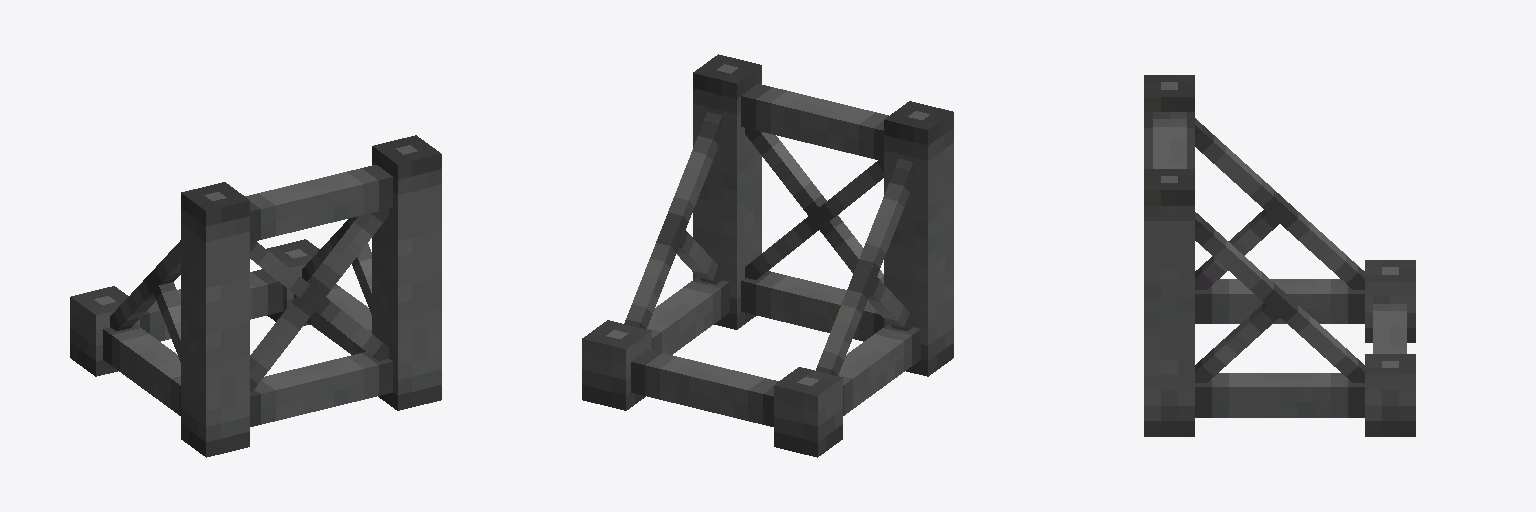
3 renders of one model, left to right at view 1: azimuth 30°, elevation 25°; view 2: azimuth 150°, elevation 25°; view 3: azimuth 270°, elevation 25°, orthographic.
Parts seen in each view (by area): view 1: Component_1_005, Component_1_006, Component_2_013, Component_2_009, Component_3_010, Component_2_011, Component_5_002, Component_3_009, Component_2_012, Component_3_012, Component_2_010, Component_5_001 (+3 smaller); view 2: Component_1_005, Component_1_006, Component_2_012, Component_2_013, Component_5_002, Component_3_012, Component_3_011, Component_2_009, Component_5_001, Component_2_011, Component_2_010, Component_3_010 (+3 smaller); view 3: Component_1_006, Component_2_010, Component_2_011, Component_3_011, Component_3_012, Component_5_001, Component_1_005, Component_5_002, Component_6_001, Component_2_013, Component_2_012, Component_6_002.
Boxes of the visible parts, box(x1,y1,x2,y2) form: Component_1_005: box(181, 182, 249, 457); Component_1_006: box(372, 135, 441, 410); Component_2_013: box(245, 165, 392, 242); Component_2_009: box(250, 352, 392, 426); Component_3_010: box(250, 209, 388, 391); Component_2_011: box(103, 324, 180, 415); Component_5_002: box(70, 286, 139, 376); Component_3_009: box(250, 241, 388, 360); Component_2_012: box(140, 269, 282, 341); Component_3_012: box(110, 240, 180, 330); Component_2_010: box(294, 284, 371, 354); Component_5_001: box(267, 239, 319, 325); Component_1_005: box(884, 101, 953, 376); Component_1_006: box(693, 54, 761, 329); Component_2_012: box(631, 349, 778, 426); Component_2_013: box(741, 84, 888, 161); Component_5_002: box(774, 367, 842, 457); Component_3_012: box(816, 159, 913, 375); Component_3_011: box(624, 112, 721, 328); Component_2_009: box(741, 271, 883, 341); Component_5_001: box(582, 320, 651, 410); Component_2_011: box(838, 324, 920, 415); Component_2_010: box(647, 277, 729, 354); Component_3_010: box(745, 128, 883, 283); Component_1_006: box(1144, 169, 1194, 436); Component_2_010: box(1195, 373, 1364, 417); Component_2_011: box(1195, 279, 1364, 323); Component_3_011: box(1195, 212, 1364, 382); Component_3_012: box(1195, 118, 1364, 289); Component_5_001: box(1365, 354, 1415, 436); Component_1_005: box(1144, 75, 1194, 168); Component_5_002: box(1365, 260, 1415, 342); Component_6_001: box(1195, 302, 1284, 382); Component_2_013: box(1153, 112, 1186, 168); Component_2_012: box(1373, 297, 1406, 353); Component_6_002: box(1195, 208, 1285, 289).
Bounding box in the file's own units: 1 × 1 × 1.
Materials: 1 (1 with a texture image).